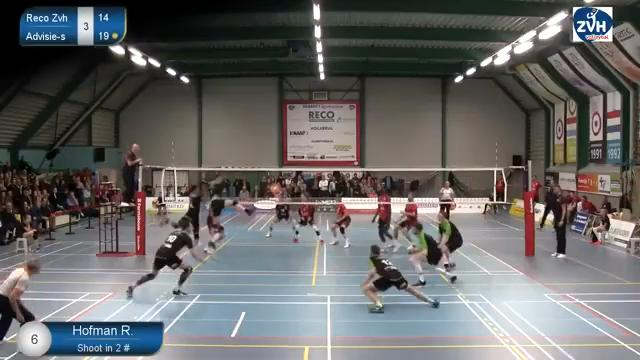difesa: (346, 241, 440, 316)
